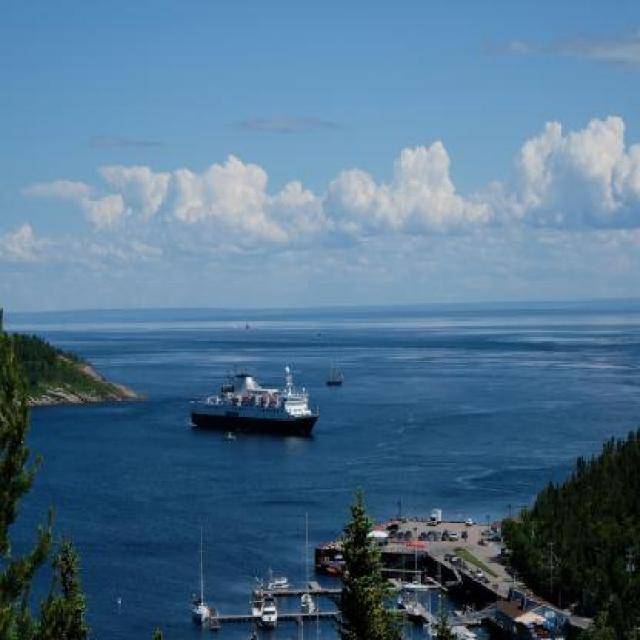ship: (187, 362, 321, 436), (296, 557, 318, 613), (397, 591, 426, 629), (192, 560, 208, 622), (261, 594, 279, 631), (325, 356, 344, 384), (261, 572, 294, 588), (402, 577, 429, 594), (222, 429, 236, 440)
